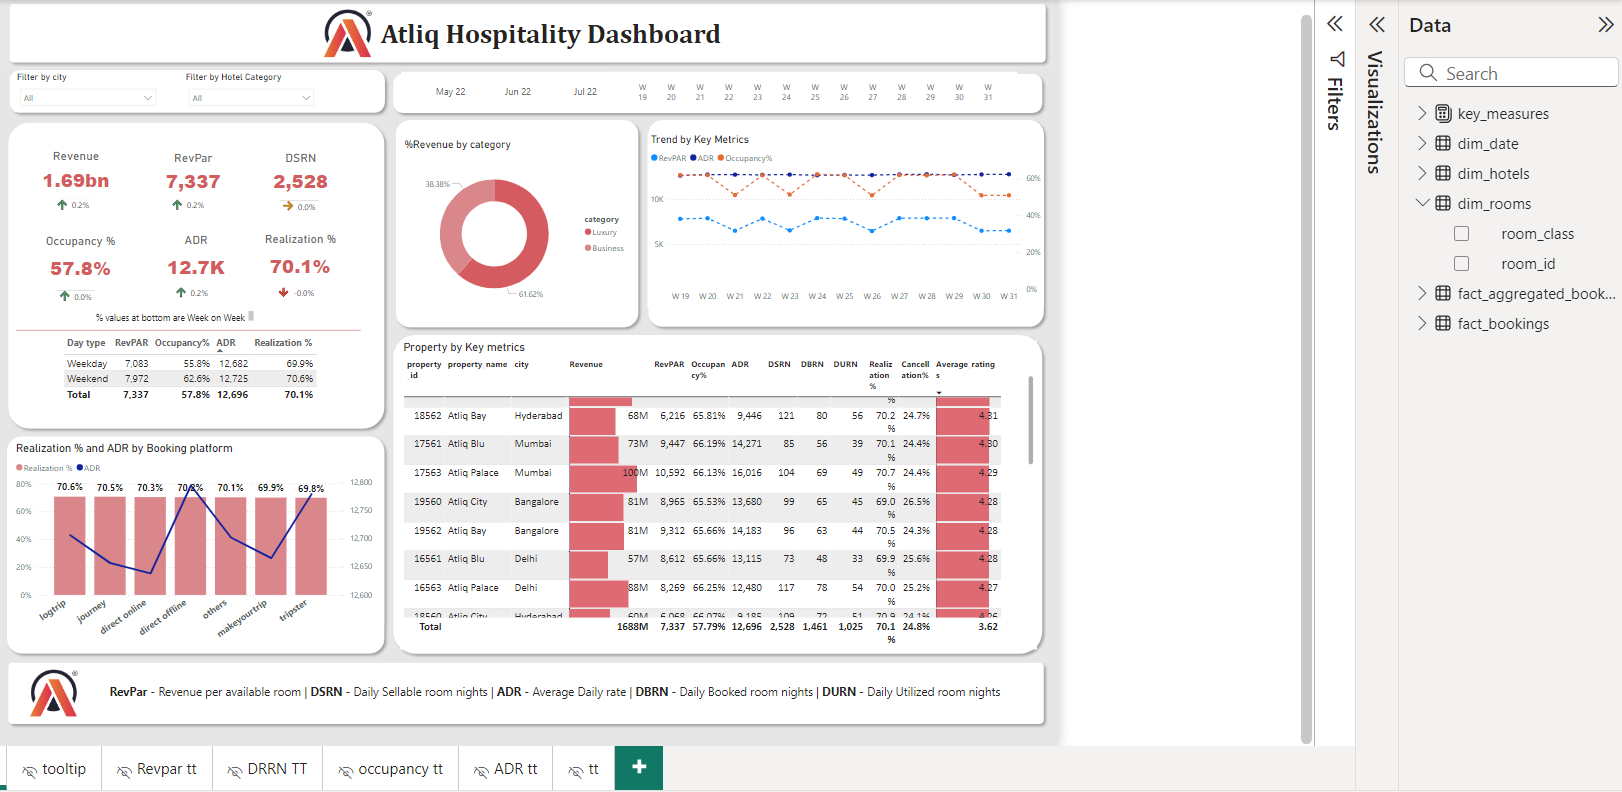

The dashboard page shown, as its layout file describes it:
{"tool":"powerbi","page":{"name":"Home","canvas":[1700,1200],"ordinal":0},"visuals":[{"type":"shape","box":[628,529.5,1056.6,528.3],"z":0},{"type":"shape","box":[1037,186.1,650.9,349.1],"z":1000},{"type":"shape","box":[631.2,185.5,406.2,350],"z":2000},{"type":"shape","box":[10,692,622,366],"z":3000},{"type":"shape","box":[12,190,620,508],"z":4000},{"type":"shape","box":[628.3,112.5,1056.6,81.1],"z":5000},{"type":"shape","box":[13.2,106.4,618.9,86.8],"z":6000},{"type":"textbox","box":[155.2,495.2,262.3,32.1],"z":7000},{"type":"tableEx","fields":{"Values":["key_measures.Revenue WoW change%"]},"box":[88.8,289.2,103.8,64.2],"z":8000},{"type":"card","title":"Revenue","fields":{"Values":["key_measures.Revenue"]},"box":[58.6,242,143.4,79.2],"z":9000},{"type":"tableEx","title":"Property by Key metrics","fields":{"Values":["dim_hotels.property_id","dim_hotels.property_name","dim_hotels.city","key_measures.Revenue","key_measures.RevPAR","key_measures.Occupancy%","key_measures.ADR","key_measures.DSRN","key_measures.DBRN","key_measures.DURN","key_measures.Realization %","key_measures.Cancellation%"]},"box":[648.8,548.4,1018.9,494.3],"z":10000},{"type":"slicer","title":"Filter by city","fields":{"Values":["dim_hotels.city"]},"box":[30.2,117.8,237.7,64.2],"z":11000},{"type":"slicer","title":"Filter by Hotel Category","fields":{"Values":["dim_hotels.category"]},"box":[300,117.8,220.8,64.2],"z":12000},{"type":"slicer","fields":{"Values":["dim_date.mmm yy"]},"box":[649.1,118.1,371.7,62.3],"z":13000},{"type":"slicer","title":"Week Number","fields":{"Values":["dim_date.week No."]},"box":[988.7,118.1,647.2,64.2],"z":14000},{"type":"donutChart","title":"%Revenue by category","fields":{"Y":["key_measures.Revenue"],"Category":["dim_hotels.category"]},"box":[650,224,372,288],"z":15000},{"type":"lineChart","title":"Trend by Key Metrics","fields":{"Y":["key_measures.RevPAR","key_measures.ADR"],"Y2":["key_measures.Occupancy%"],"Category":["dim_date.week No.","dim_date.mmm yy.Variation.Date Hierarchy.Month"]},"box":[1044,216,634,280],"z":16000},{"type":"lineClusteredColumnComboChart","title":"Realization % and ADR by Booking platform","fields":{"Category":["fact_bookings.booking_platform"],"Y":["key_measures.Realization %"],"Y2":["key_measures.ADR"]},"box":[28,710,584,332],"z":17000},{"type":"shape","box":[34.8,512.6,550.9,39.6],"z":18000},{"type":"tableEx","fields":{"Values":["dim_date.day__type","key_measures.RevPAR","key_measures.Occupancy%","key_measures.ADR","key_measures.Realization %"]},"box":[104.6,533.3,420.8,139.6],"z":19000},{"type":"tableEx","fields":{"Values":["key_measures.RevPAR WoW change%"]},"box":[272.2,290.7,98.1,77.4],"z":20000},{"type":"tableEx","fields":{"Values":["key_measures.DSRN WoW change%"]},"box":[450,292.2,79.2,64.2],"z":21000},{"type":"card","title":"RevPar","fields":{"Values":["key_measures.RevPAR"]},"box":[245.2,244.5,142.5,77.5],"z":22000},{"type":"card","title":"DSRN","fields":{"Values":["key_measures.DSRN"]},"box":[418.4,244.7,142.5,78.8],"z":23000},{"type":"tableEx","fields":{"Values":["key_measures.Occupancy WoW change %"]},"box":[92.6,435.2,94.3,64.2],"z":24000},{"type":"tableEx","fields":{"Values":["key_measures.ADR WoW change%"]},"box":[278.5,430.7,87.5,64.6],"z":25000},{"type":"card","title":"Occupancy %","fields":{"Values":["key_measures.Occupancy%"]},"box":[66.4,378.8,142.5,88.8],"z":26000},{"type":"card","title":"ADR","fields":{"Values":["key_measures.ADR"]},"box":[251.5,376.6,139.6,87.5],"z":27000},{"type":"tableEx","fields":{"Values":["key_measures.Realization WoW change%"]},"box":[441,430.7,87.5,64.6],"z":28000},{"type":"card","title":"Realization %","fields":{"Values":["key_measures.Realization %"]},"box":[418.1,374.5,141.7,89.6],"z":29000},{"type":"shape","box":[12.5,1054.2,1675,116.7],"z":30000},{"type":"image","box":[47.9,1068.8,93.8,87.5],"z":31000},{"type":"textbox","box":[177.1,1091.7,1445.8,41.7],"z":32000},{"type":"shape","box":[14,0,1676,112],"z":33000},{"type":"image","box":[518,12,94,88],"z":34000},{"type":"textbox","box":[612,26,566,74],"z":35000}]}

Visuals, with their boxes on the page's 1700x1200 design canvas (x1, y1, x2, y2). These are canvas units, not pixel positions in the 1622x792 screenshot, which may show the page scaled, cropped or inside an application window:
shape: [left=628, top=530, right=1685, bottom=1058]
shape: [left=1037, top=186, right=1688, bottom=535]
shape: [left=631, top=186, right=1037, bottom=536]
shape: [left=10, top=692, right=632, bottom=1058]
shape: [left=12, top=190, right=632, bottom=698]
shape: [left=628, top=112, right=1685, bottom=194]
shape: [left=13, top=106, right=632, bottom=193]
textbox: [left=155, top=495, right=418, bottom=527]
tableEx - key_measures.Revenue WoW change%: [left=89, top=289, right=193, bottom=353]
"Revenue" card: [left=59, top=242, right=202, bottom=321]
"Property by Key metrics" tableEx: [left=649, top=548, right=1668, bottom=1043]
"Filter by city" slicer: [left=30, top=118, right=268, bottom=182]
"Filter by Hotel Category" slicer: [left=300, top=118, right=521, bottom=182]
slicer - dim_date.mmm yy: [left=649, top=118, right=1021, bottom=180]
"Week Number" slicer: [left=989, top=118, right=1636, bottom=182]
"%Revenue by category" donutChart: [left=650, top=224, right=1022, bottom=512]
"Trend by Key Metrics" lineChart: [left=1044, top=216, right=1678, bottom=496]
"Realization % and ADR by Booking platform" lineClusteredColumnComboChart: [left=28, top=710, right=612, bottom=1042]
shape: [left=35, top=513, right=586, bottom=552]
tableEx - dim_date.day__type x key_measures.RevPAR: [left=105, top=533, right=525, bottom=673]
tableEx - key_measures.RevPAR WoW change%: [left=272, top=291, right=370, bottom=368]
tableEx - key_measures.DSRN WoW change%: [left=450, top=292, right=529, bottom=356]
"RevPar" card: [left=245, top=244, right=388, bottom=322]
"DSRN" card: [left=418, top=245, right=561, bottom=324]
tableEx - key_measures.Occupancy WoW change %: [left=93, top=435, right=187, bottom=499]
tableEx - key_measures.ADR WoW change%: [left=278, top=431, right=366, bottom=495]
"Occupancy %" card: [left=66, top=379, right=209, bottom=468]
"ADR" card: [left=252, top=377, right=391, bottom=464]
tableEx - key_measures.Realization WoW change%: [left=441, top=431, right=528, bottom=495]
"Realization %" card: [left=418, top=374, right=560, bottom=464]
shape: [left=12, top=1054, right=1688, bottom=1171]
image: [left=48, top=1069, right=142, bottom=1156]
textbox: [left=177, top=1092, right=1623, bottom=1133]
shape: [left=14, top=0, right=1690, bottom=112]
image: [left=518, top=12, right=612, bottom=100]
textbox: [left=612, top=26, right=1178, bottom=100]
